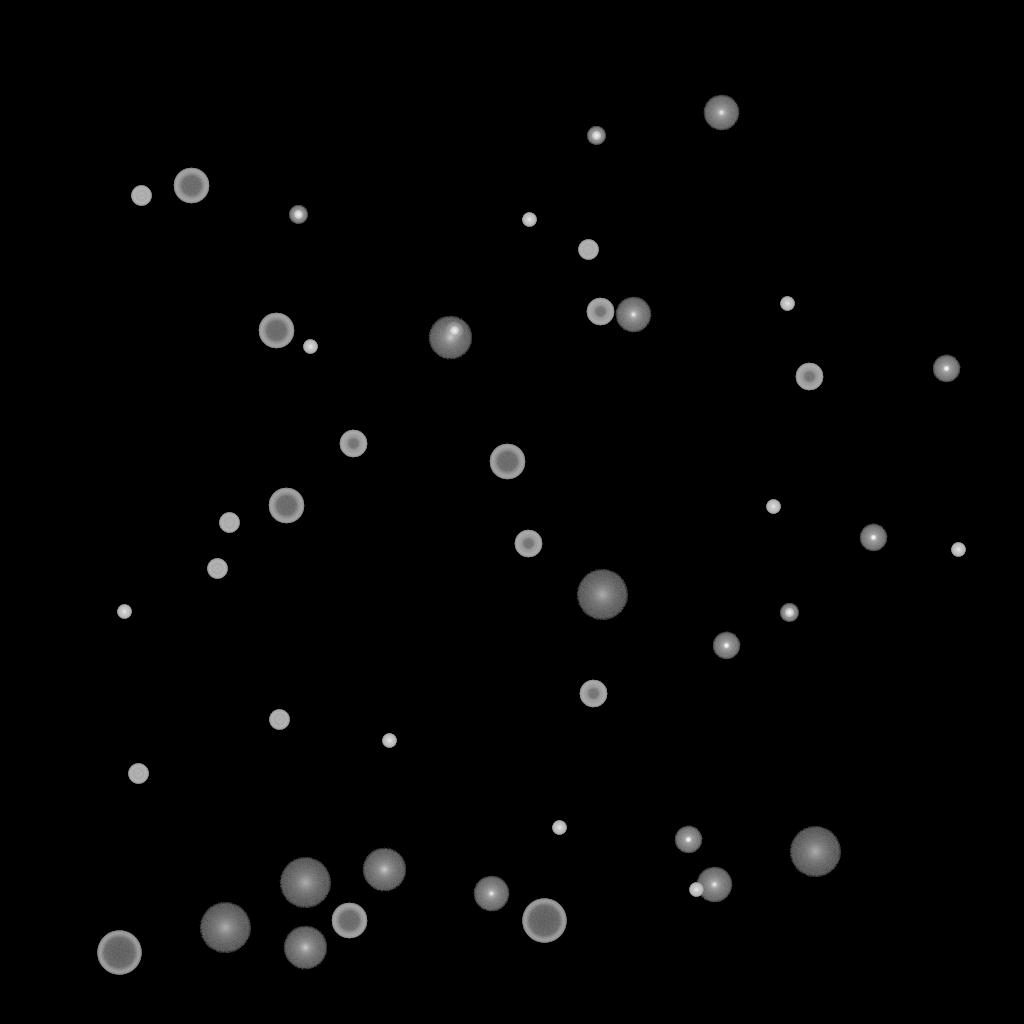depth:-10: (712, 632, 740, 660), (859, 524, 887, 552), (674, 826, 702, 854), (932, 355, 960, 383)
depth:-20: (445, 322, 463, 340), (780, 604, 798, 622), (289, 206, 307, 224), (587, 127, 605, 145)
depth:-30: (689, 883, 703, 897), (382, 734, 396, 748), (766, 500, 780, 514), (117, 605, 131, 619), (303, 340, 317, 354), (552, 821, 566, 835), (522, 213, 536, 227), (951, 543, 965, 557), (780, 297, 794, 311)
depth:-40: (578, 240, 598, 260), (207, 559, 227, 579), (131, 186, 151, 206), (128, 764, 148, 784), (269, 710, 289, 730), (219, 513, 239, 533)
depth:-50: (586, 298, 614, 326), (795, 363, 823, 391), (579, 680, 607, 708), (339, 430, 367, 458), (514, 530, 542, 558)
depth:-60: (489, 444, 525, 480), (331, 903, 367, 939), (173, 168, 209, 204), (258, 313, 294, 349), (268, 488, 304, 524)
depth:-70: (522, 899, 566, 943), (97, 931, 141, 975)
depth:0: (703, 95, 739, 131), (696, 867, 732, 903), (473, 876, 509, 912), (615, 297, 651, 333)
depth:10: (428, 316, 472, 360), (362, 848, 406, 892), (283, 926, 327, 970)
depth:20: (576, 570, 628, 620), (199, 903, 251, 953), (789, 827, 841, 877), (279, 858, 331, 908)
